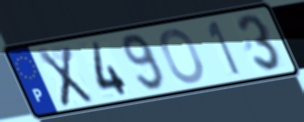1: (207, 19, 245, 78)
3: (236, 12, 286, 74)
4: (89, 39, 129, 98)
9: (122, 33, 168, 93)
O: (158, 27, 206, 85)
X: (34, 45, 96, 109)
